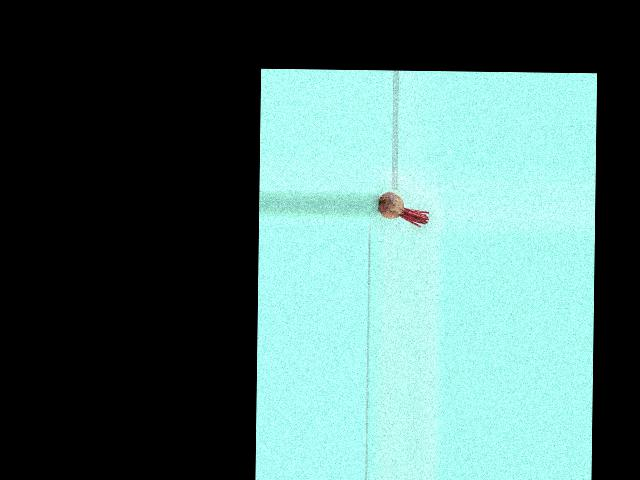beet: (378, 191, 428, 227)
